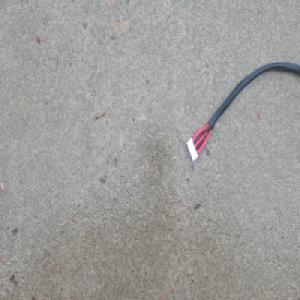Wire: (184, 60, 300, 163)
